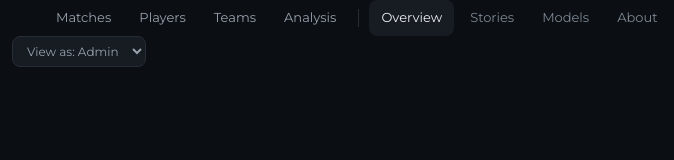
Test: role-based nav gating › hides Analysis but keeps Models visible after switching role to guest via the select
Select "View as: Guest" in the dropdown named "View as role" at (79, 51), box [12,36,146,66]
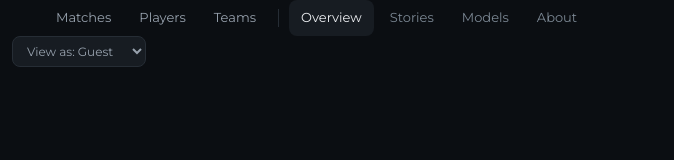
Expected: the link "Models" is shown, [462,9,509,25]
Result: the link "Analysis" is gone
